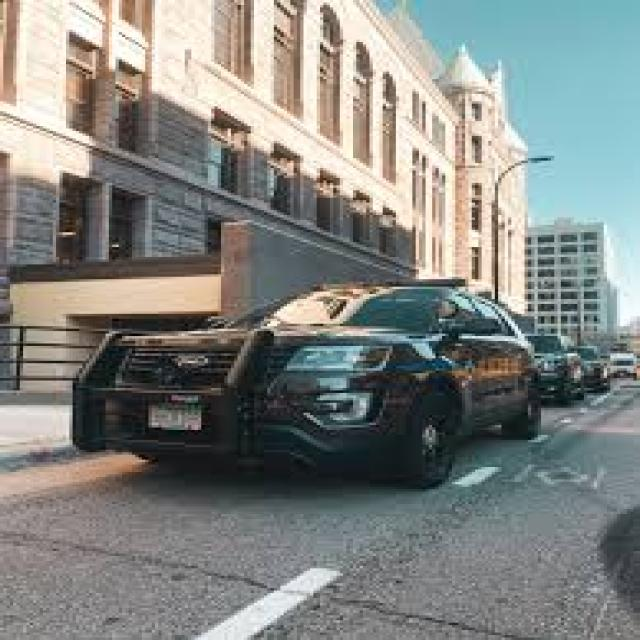cop: (61, 277, 553, 488)
